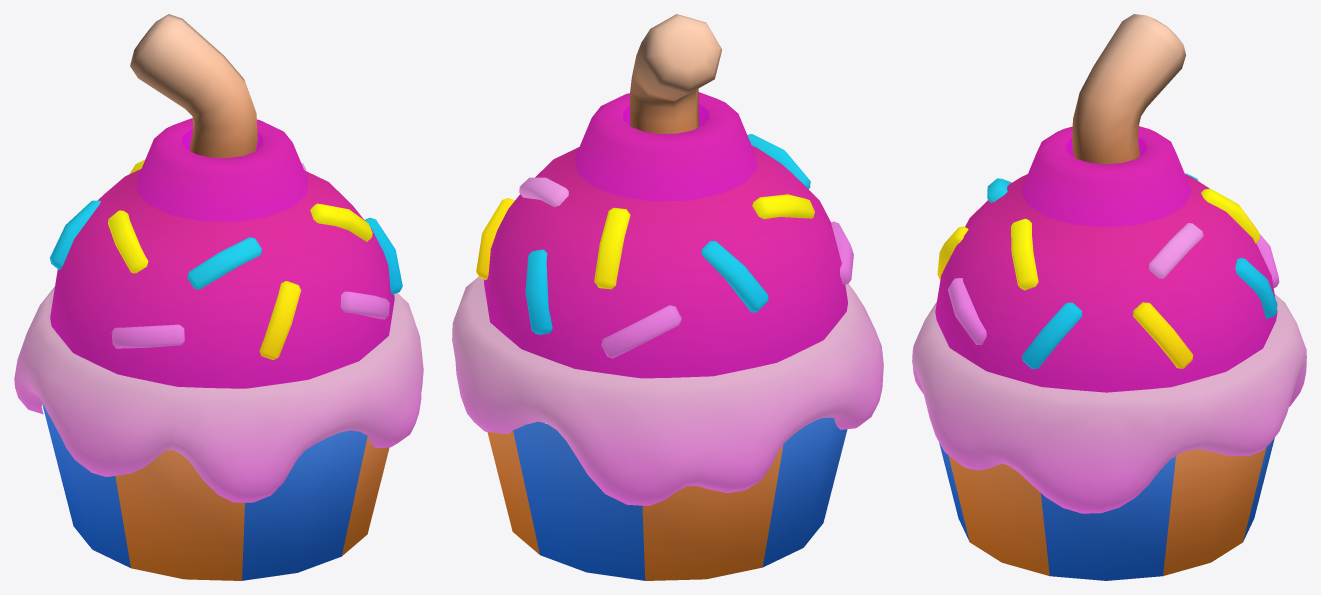
File: IceCream_04.glb
3 renders of one model, left to right at view 1: azimuth 30°, elevation 25°; view 2: azimuth 150°, elevation 25°; view 3: azimuth 270°, elevation 25°, orthographic. The views are drawn at different scales.
Visible parts, largest first — view 1: IceCream_04; view 2: IceCream_04; view 3: IceCream_04.
Part boxes in pixels (x1,y1,x2,y2): IceCream_04: (14, 14, 423, 580); IceCream_04: (452, 14, 883, 580); IceCream_04: (912, 14, 1306, 580).
Bounding box in the file's own units: 1.01 × 1.37 × 0.9916.
2 materials, 2 textured.
